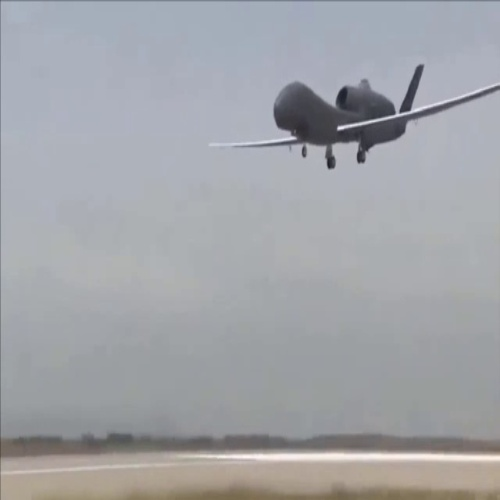uav904: (209, 62, 498, 170)
